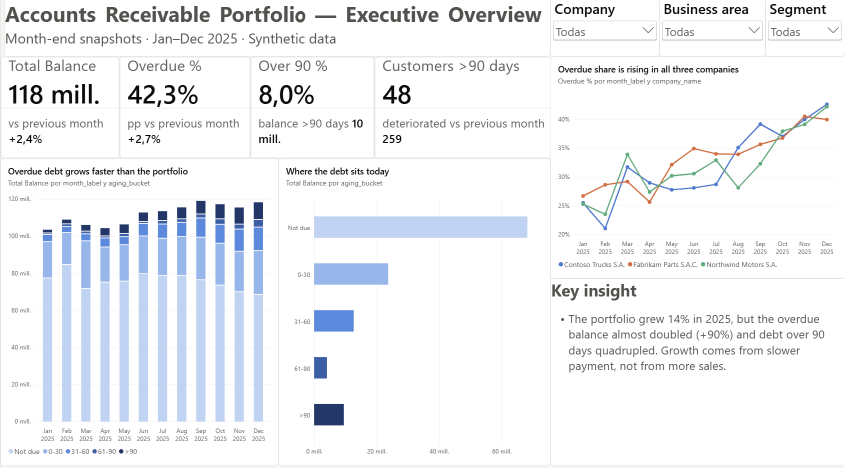

The page's visual inventory and layout, read from the dashboard file:
{"tool":"powerbi","page":{"name":"Resumen ejecutivo","canvas":[1920,1080],"ordinal":0},"visuals":[{"type":"textbox","box":[9.1,0,1242.1,131.9],"z":0},{"type":"slicer","fields":{"Values":["dim_company.company_name"]},"box":[1251.2,0,248,131.9],"z":1000},{"type":"slicer","fields":{"Values":["dim_business_area.business_area_name"]},"box":[1499.1,0,241.1,131.9],"z":2000},{"type":"slicer","fields":{"Values":["dim_customer.segment"]},"box":[1740.3,0,179.7,131.9],"z":3000},{"type":"cardVisual","fields":{"Data":["_Measures.Total Balance"]},"box":[0,131.9,270.7,232],"z":4000},{"type":"cardVisual","fields":{"Data":["_Measures.Overdue %"]},"box":[270.7,131.9,298,232],"z":5000},{"type":"cardVisual","fields":{"Data":["_Measures.Over 90 %"]},"box":[568.7,131.9,282.1,232],"z":6000},{"type":"cardVisual","fields":{"Data":["_Measures.Customers Over 90"]},"box":[850.8,131.9,404.9,232],"z":7000},{"type":"columnChart","title":"Overdue debt grows faster than the portfolio","fields":{"Category":["dim_date.month_label"],"Series":["dim_aging_bucket.aging_bucket"],"Y":["_Measures.Total Balance"]},"box":[0,364,632.4,698.4],"z":8000},{"type":"clusteredBarChart","title":"Where the debt sits today","fields":{"Category":["dim_aging_bucket.aging_bucket"],"Y":["_Measures.Total Balance"]},"box":[632.4,364,618.8,698.4],"z":9000},{"type":"lineChart","title":"Overdue share is rising in all three companies","fields":{"Category":["dim_date.month_label"],"Series":["dim_company.company_name"],"Y":["_Measures.Overdue %"]},"box":[1251.2,131.9,668.8,505],"z":10000},{"type":"textbox","box":[1251.2,637,671.1,425.4],"z":11000}]}

Visuals, with their boxes in screenshot pixels (x1, y1, x2, y2), scaled from the page's 1920x1080 canvas onto the 844x468 screenshot:
textbox: bbox=(4, 0, 550, 57)
slicer - dim_company.company_name: bbox=(550, 0, 659, 57)
slicer - dim_business_area.business_area_name: bbox=(659, 0, 765, 57)
slicer - dim_customer.segment: bbox=(765, 0, 843, 57)
cardVisual - _Measures.Total Balance: bbox=(0, 57, 119, 158)
cardVisual - _Measures.Overdue %: bbox=(119, 57, 250, 158)
cardVisual - _Measures.Over 90 %: bbox=(250, 57, 374, 158)
cardVisual - _Measures.Customers Over 90: bbox=(374, 57, 552, 158)
"Overdue debt grows faster than the portfolio" columnChart: bbox=(0, 158, 278, 460)
"Where the debt sits today" clusteredBarChart: bbox=(278, 158, 550, 460)
"Overdue share is rising in all three companies" lineChart: bbox=(550, 57, 843, 276)
textbox: bbox=(550, 276, 843, 460)
